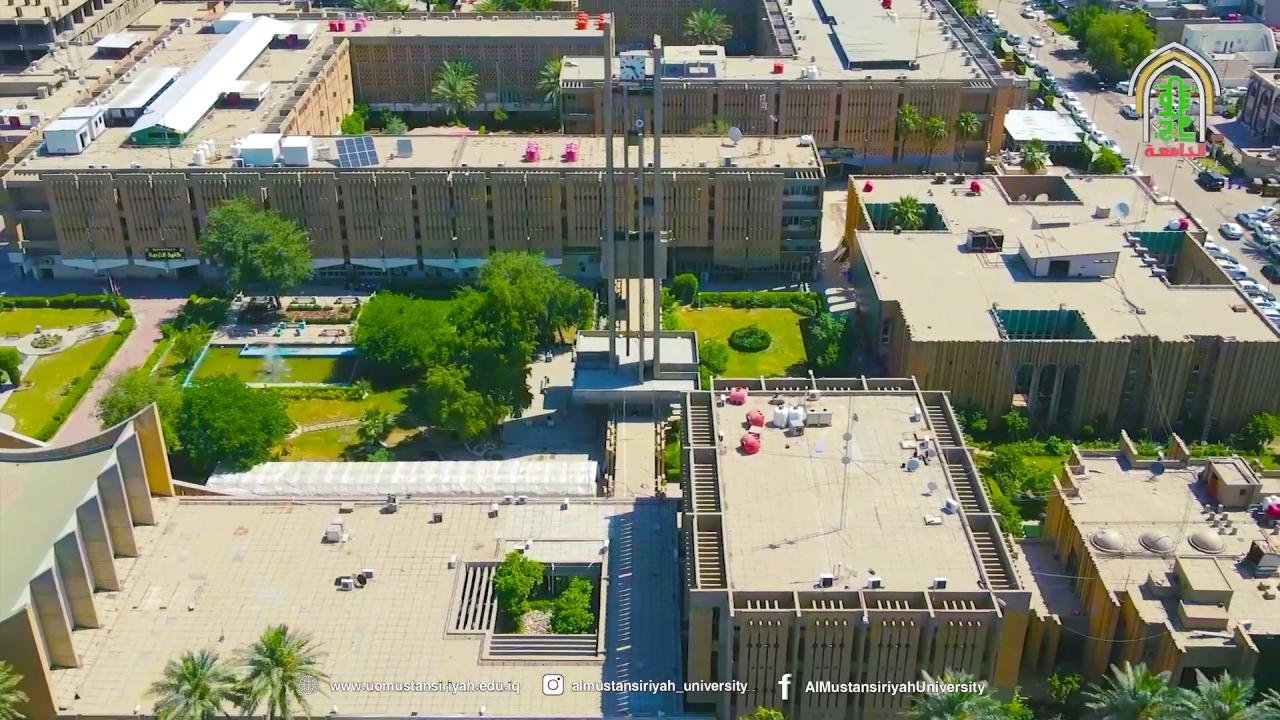car: (1217, 262, 1252, 280), (1198, 170, 1225, 191), (1208, 246, 1235, 264), (1237, 207, 1259, 228), (1219, 222, 1243, 240), (1260, 262, 1280, 283), (1238, 279, 1264, 294), (1252, 222, 1269, 244), (1250, 291, 1272, 308), (1120, 104, 1142, 120), (1071, 106, 1088, 126), (1061, 94, 1080, 109), (1264, 308, 1280, 325), (1090, 129, 1107, 144), (1105, 139, 1121, 154), (1020, 7, 1038, 19), (1115, 80, 1130, 94), (1268, 240, 1280, 257), (1050, 84, 1064, 98), (1042, 72, 1056, 86), (1082, 118, 1095, 133), (984, 8, 997, 22), (1029, 36, 1044, 48), (1034, 65, 1048, 77), (1006, 33, 1020, 45), (1014, 44, 1027, 55), (1025, 55, 1038, 64), (991, 18, 1001, 29)
fountain: (186, 341, 364, 390)
tree: (350, 246, 597, 447), (168, 370, 295, 478), (471, 247, 594, 355), (195, 194, 313, 306), (225, 622, 332, 719), (350, 288, 445, 373), (94, 366, 184, 455), (422, 361, 512, 444), (141, 646, 239, 718), (904, 665, 1034, 719), (248, 212, 314, 307), (1080, 659, 1186, 718), (1169, 666, 1279, 718), (1084, 11, 1156, 82), (491, 548, 544, 632), (430, 58, 480, 126), (534, 53, 576, 133), (831, 174, 862, 265), (549, 575, 595, 633), (983, 477, 1025, 540), (163, 320, 213, 367), (807, 310, 847, 367), (682, 6, 734, 45), (1045, 669, 1083, 719), (952, 110, 981, 172), (1065, 4, 1103, 51), (0, 658, 29, 719), (1241, 410, 1279, 455), (354, 405, 393, 447), (918, 115, 946, 173), (894, 103, 920, 160), (534, 54, 562, 104), (888, 193, 923, 230), (698, 337, 729, 378), (728, 324, 772, 351), (473, 0, 551, 15), (1019, 137, 1048, 174), (1089, 145, 1123, 173), (659, 285, 679, 331), (671, 272, 698, 305), (1001, 408, 1027, 442), (0, 346, 21, 386), (350, 0, 393, 19), (736, 704, 785, 719), (379, 107, 406, 134), (1074, 134, 1093, 168), (339, 111, 365, 135), (953, 0, 980, 17), (491, 105, 508, 121), (396, 0, 409, 17)
